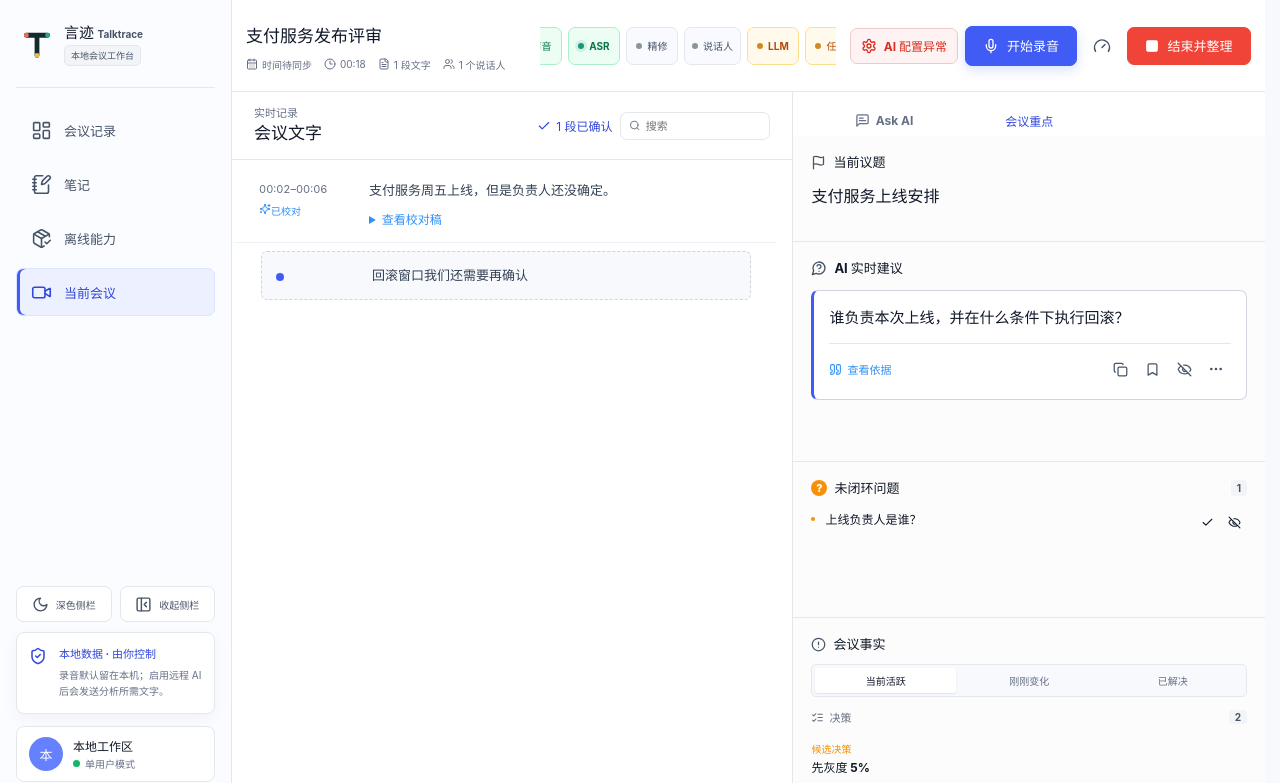
LiveMeetingWorkbench › shows one compact corrected paragraph without repeating the raw recognition
Click the heading "查看校对稿" at (412, 220), box left=382, top=212, right=442, bottom=227
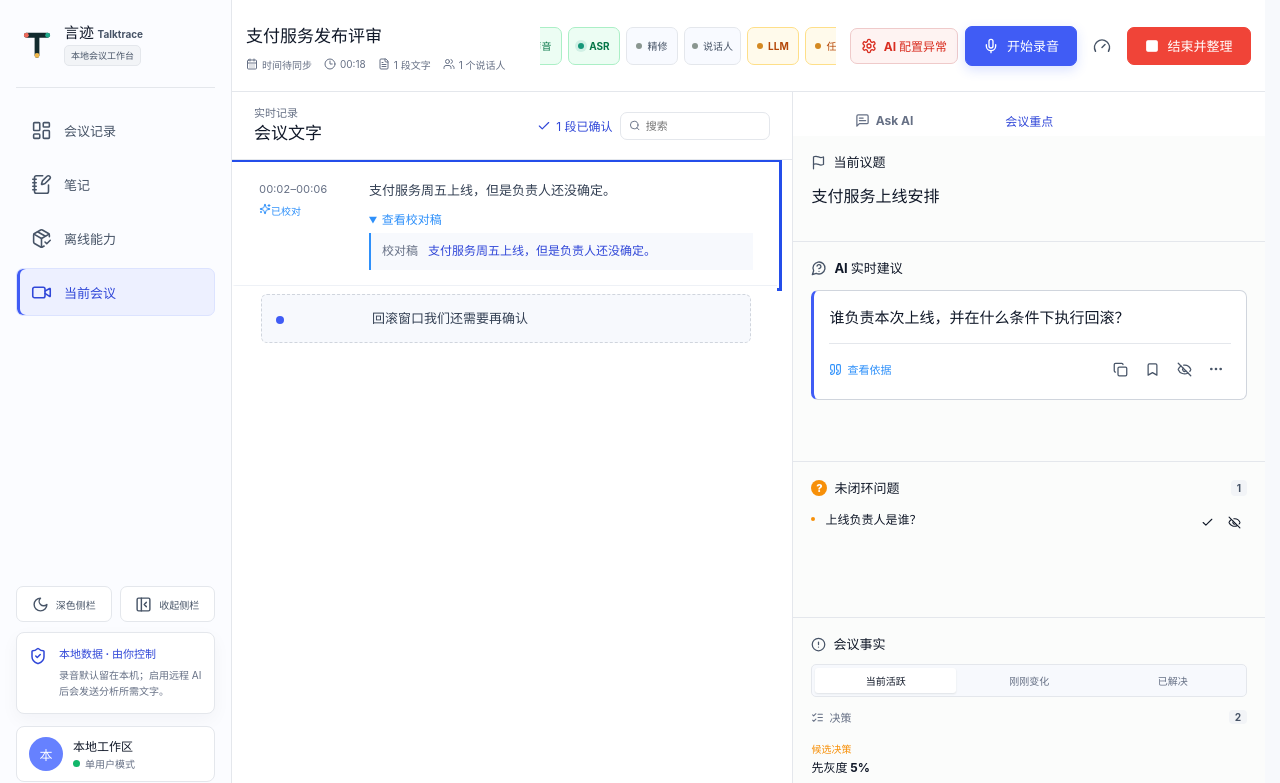
Expected: the text "校对稿" is shown, left=382, top=242, right=418, bottom=261
Expected: the text "支付服务周五上线，但是负责人还没确定。" below "查看校对稿" is shown, left=428, top=243, right=656, bottom=258
